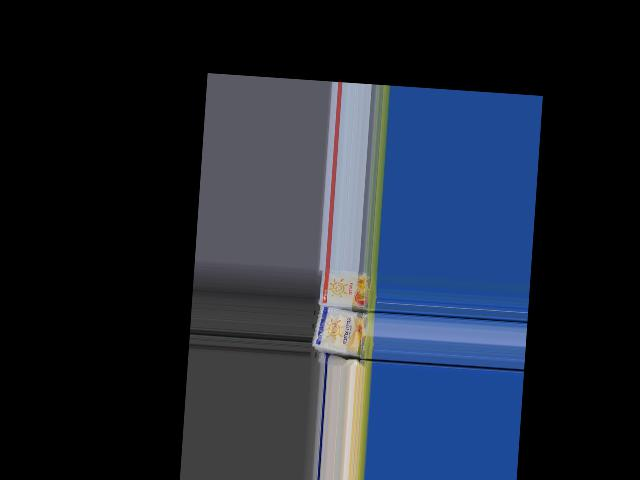cheese: (315, 267, 378, 309)
